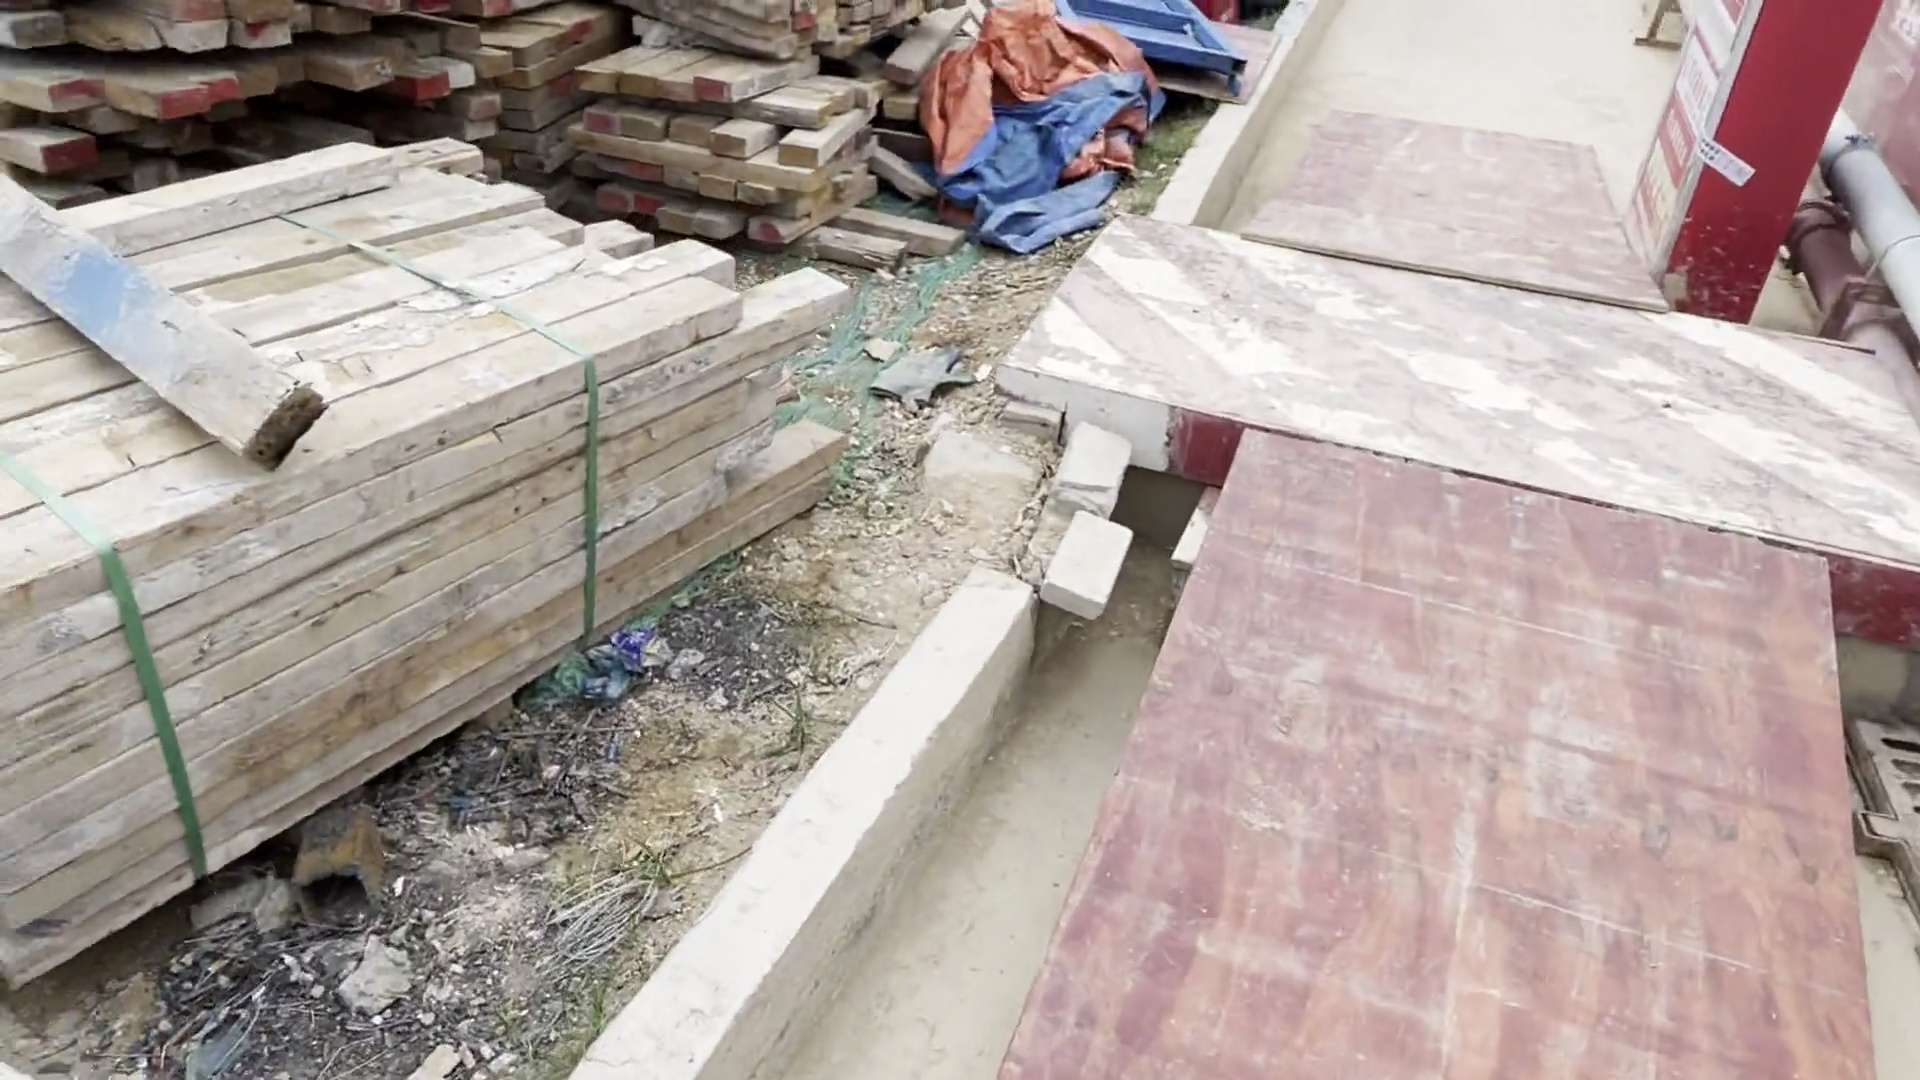board: (993, 425, 1862, 1075), (1291, 83, 1689, 316)
wood: (17, 138, 748, 942), (113, 1, 905, 249)
